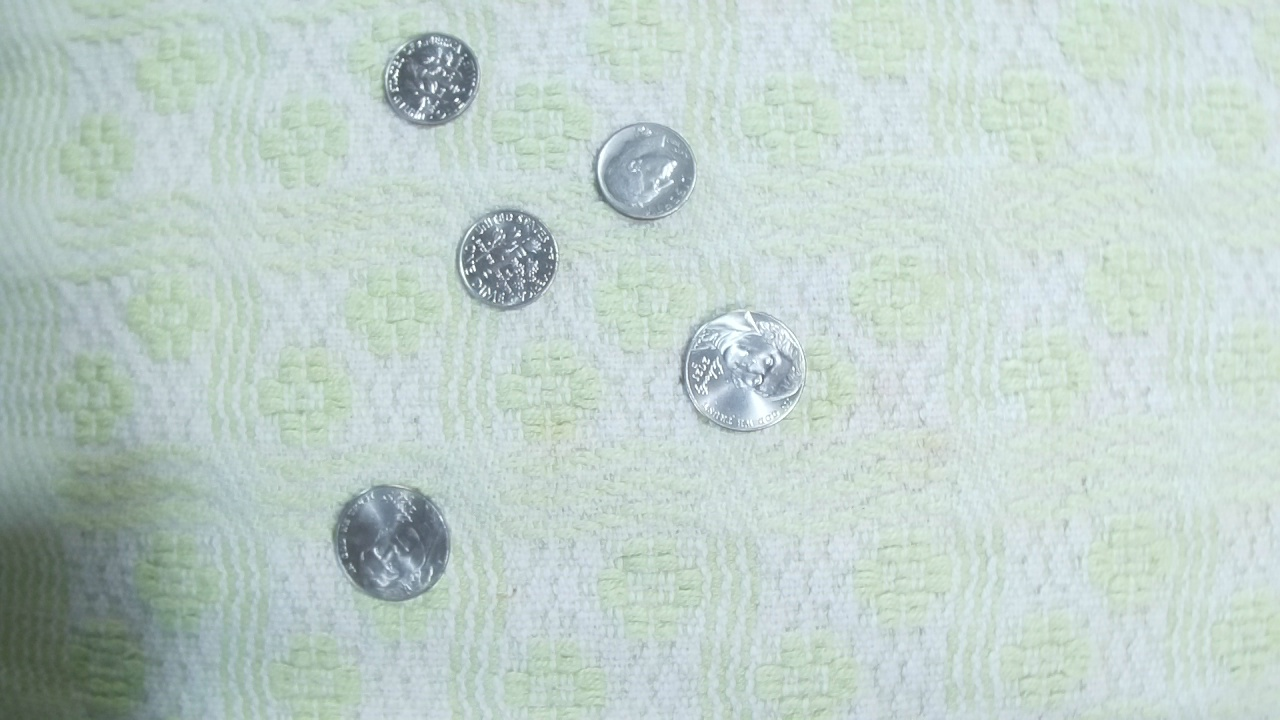dime: (590, 118, 700, 224), (454, 206, 558, 310), (381, 31, 481, 129)
nickel: (671, 302, 817, 438), (324, 476, 458, 606)
